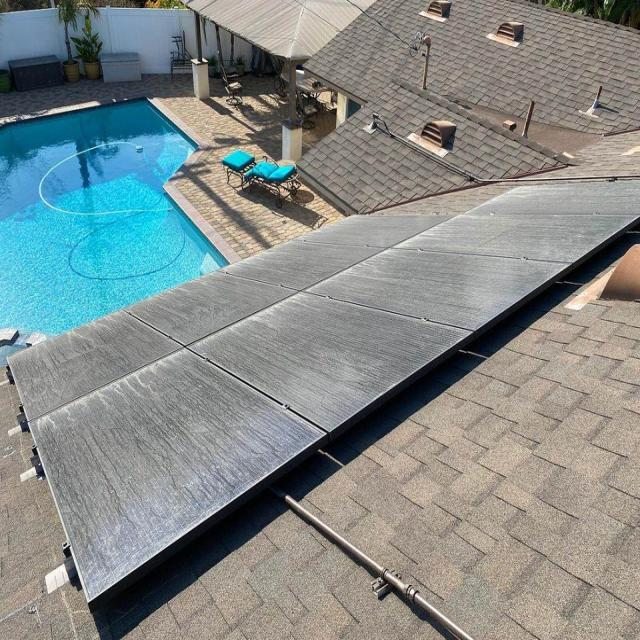dust-solar-panel: (6, 183, 640, 606)
